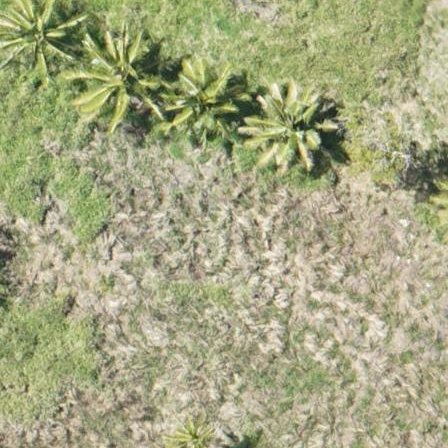palm_tree: (246, 82, 320, 161), (86, 37, 155, 111), (167, 63, 232, 133), (1, 1, 67, 65)
